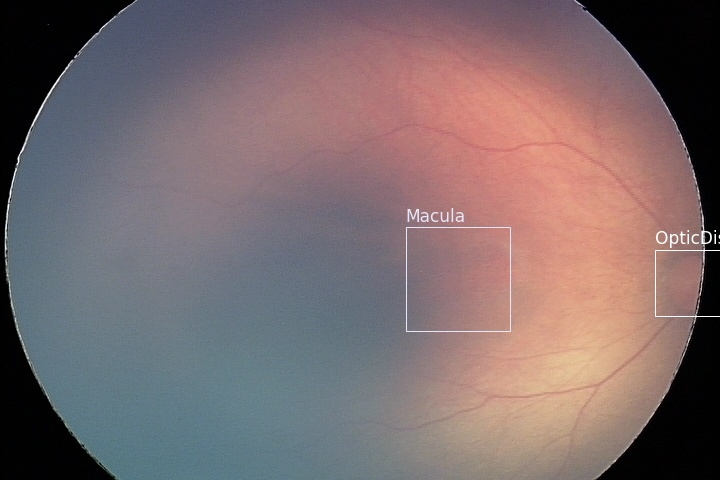Macula: (405, 226, 509, 330)
OpticDisk: (654, 249, 720, 315)
